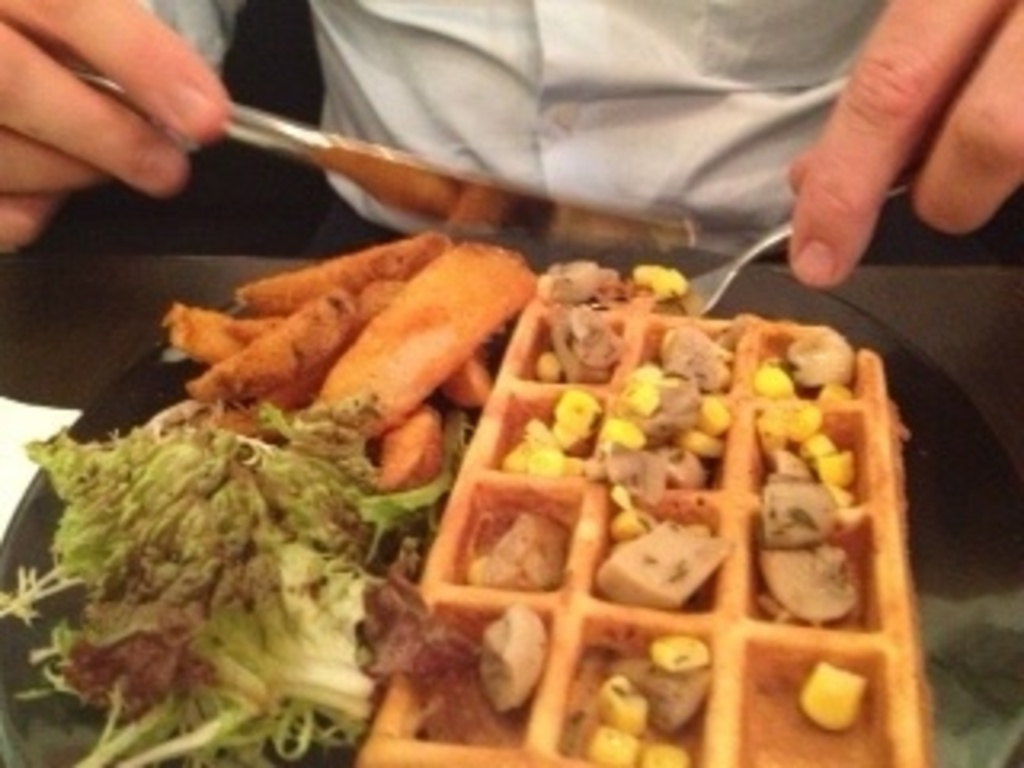Carrot: (307, 240, 544, 441)
